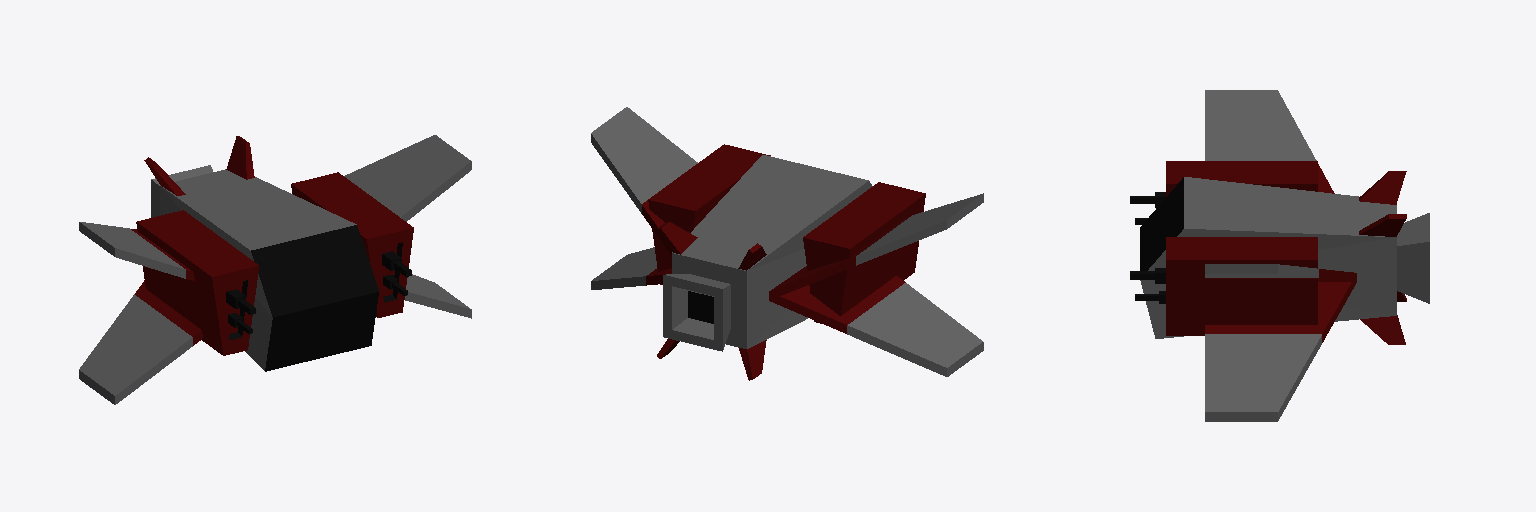
The model's file is spaceship2.obj.
The picture shows the model from 3 angles: view 1: azimuth 30°, elevation 25°; view 2: azimuth 150°, elevation 25°; view 3: azimuth 270°, elevation 25°; orthographic projection.
Visible parts, largest first — view 1: hull_spaceship2.016, boxRight_spaceship2.019, wingLowerRight_spaceship2.012, boxLeft_spaceship2, wingUpperLeft_spaceship2.018, wingUpperRight_spaceship2.017, wingLowerLeft_spaceship2.011, tailUpperLeft_spaceship2.015, engine_spaceship2.010; view 2: hull_spaceship2.016, wingLowerRight_spaceship2.012, boxRight_spaceship2.019, wingUpperLeft_spaceship2.018, boxLeft_spaceship2, engine_spaceship2.010, wingUpperRight_spaceship2.017, wingLowerLeft_spaceship2.011, tailUpperLeft_spaceship2.015, tailLowerLeft_spaceship2.013; view 3: hull_spaceship2.016, boxLeft_spaceship2, wingLowerLeft_spaceship2.011, wingUpperRight_spaceship2.017, boxRight_spaceship2.019, engine_spaceship2.010, wingUpperLeft_spaceship2.018, tailUpperRight_spaceship2.009, tailLowerRight_spaceship2.014, tailUpperLeft_spaceship2.015.
Boxes of the visible parts, box(x1,y1,x2,y2) form: hull_spaceship2.016: box(160, 169, 378, 371); boxRight_spaceship2.019: box(136, 210, 258, 355); wingLowerRight_spaceship2.012: box(79, 280, 202, 404); boxLeft_spaceship2: box(291, 172, 413, 317); wingUpperLeft_spaceship2.018: box(344, 135, 471, 221); wingUpperRight_spaceship2.017: box(79, 222, 194, 281); wingLowerLeft_spaceship2.011: box(405, 274, 471, 318); tailUpperLeft_spaceship2.015: box(226, 136, 254, 179); engine_spaceship2.010: box(151, 165, 212, 217); hull_spaceship2.016: box(672, 155, 872, 348); wingLowerRight_spaceship2.012: box(769, 276, 983, 376); boxRight_spaceship2.019: box(803, 182, 925, 323); wingUpperLeft_spaceship2.018: box(591, 107, 697, 255); boxLeft_spaceship2: box(648, 144, 770, 284); engine_spaceship2.010: box(663, 274, 730, 351); wingUpperRight_spaceship2.017: box(769, 193, 983, 299); wingLowerLeft_spaceship2.011: box(591, 247, 671, 289); tailUpperLeft_spaceship2.015: box(656, 222, 697, 254); tailLowerLeft_spaceship2.013: box(739, 340, 766, 380); hull_spaceship2.016: box(1140, 177, 1396, 338); boxLeft_spaceship2: box(1166, 237, 1317, 335); wingLowerLeft_spaceship2.011: box(1205, 274, 1356, 421); wingUpperRight_spaceship2.017: box(1205, 90, 1334, 193); boxRight_spaceship2.019: box(1166, 161, 1317, 196); engine_spaceship2.010: box(1397, 213, 1429, 303); wingUpperLeft_spaceship2.018: box(1205, 264, 1356, 281); tailUpperRight_spaceship2.009: box(1359, 171, 1406, 204); tailLowerRight_spaceship2.014: box(1360, 315, 1405, 344); tailUpperLeft_spaceship2.015: box(1359, 214, 1406, 236).
Bounding box in the file's own units: 456 × 192 × 332.